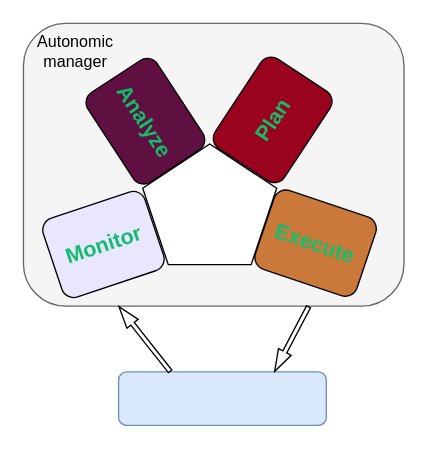
Some shapes in this 427 by 449 pixel diagram are drawn without their labels. Here are the shapes that lost their labels. From the top down, the box of each, then its label:
(141, 143, 277, 265): Knowledge
(117, 371, 326, 425): Managed element
